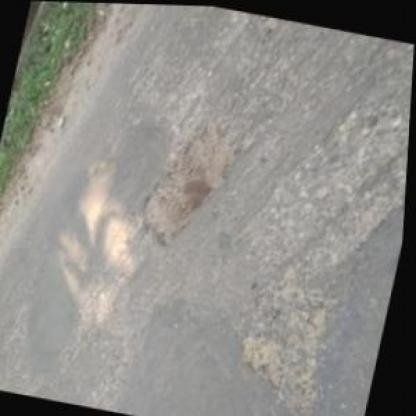pothole: (136, 106, 248, 256), (233, 327, 297, 390)
